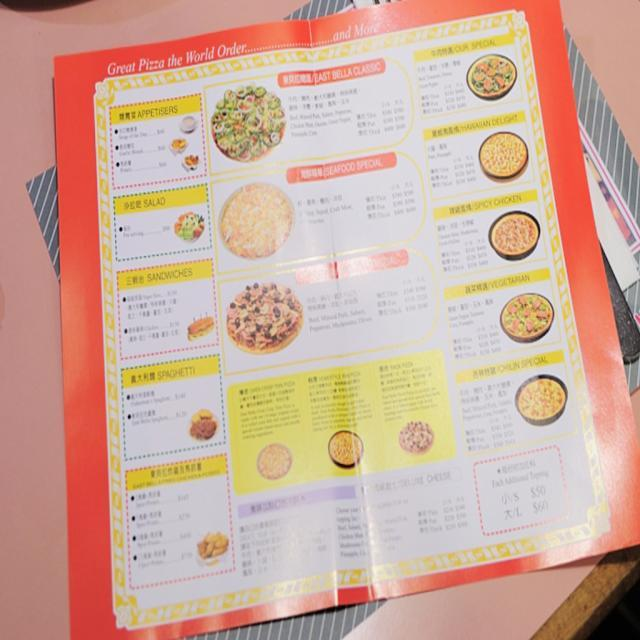Pizza: (210, 82, 287, 166), (219, 183, 292, 259), (229, 273, 289, 353), (489, 208, 540, 259), (502, 289, 554, 339), (467, 51, 517, 102), (477, 131, 528, 181), (519, 373, 564, 417), (327, 429, 363, 467), (399, 418, 435, 454), (258, 444, 289, 476)
